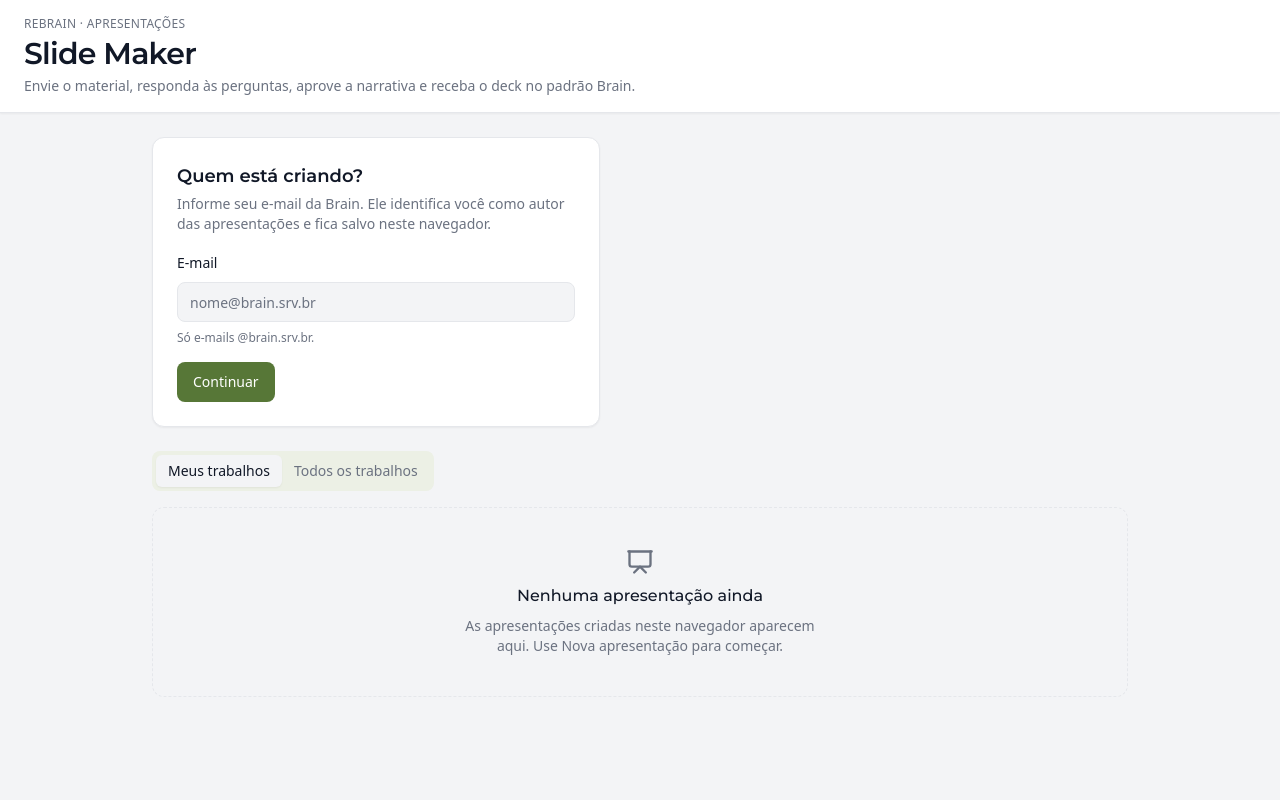
Test: SlideMakerPage › pede o e-mail @brain.srv.br antes de criar, guarda no navegador e permite trocar
Check: the heading "Nenhuma apresentação ainda" is shown, box [517,584,763,608]
In the field labelled "E-mail": (376,302) [177,282,575,322], type "pessoa@gmail.com"
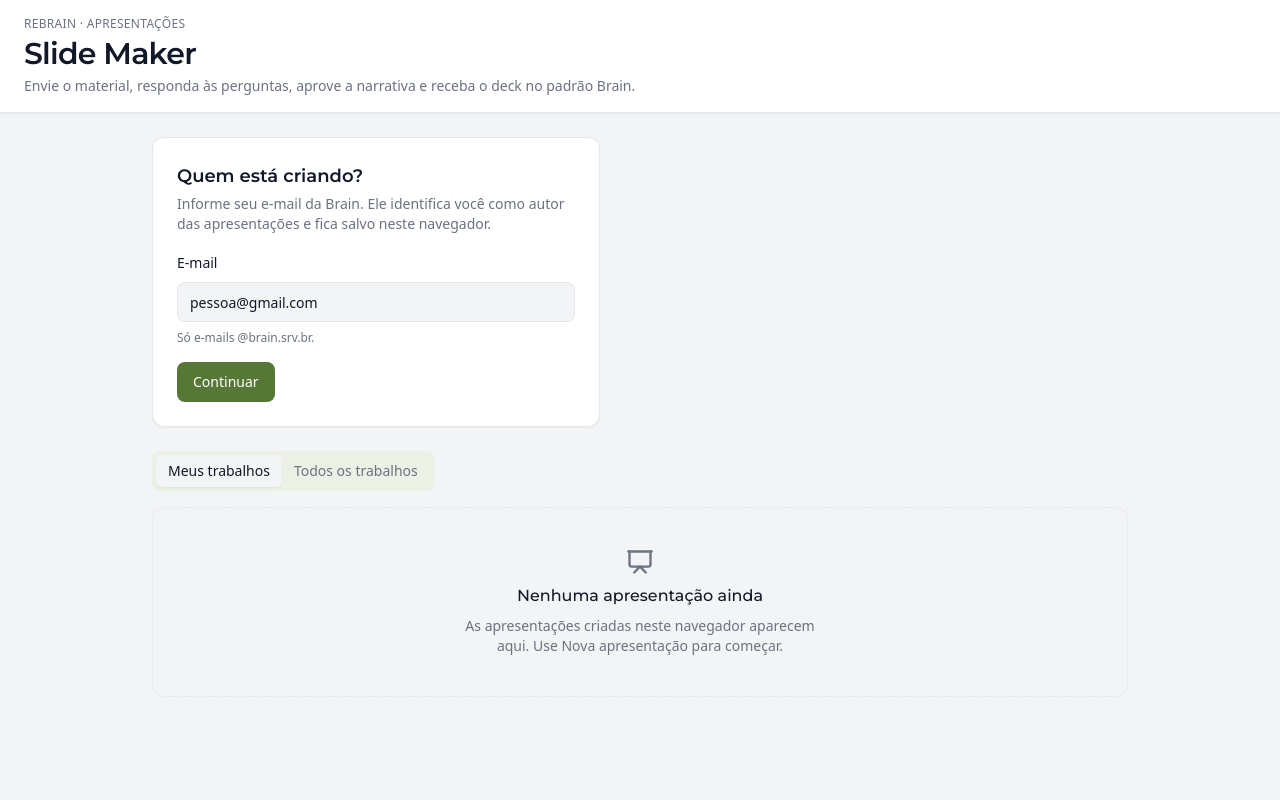
Click the button "Continuar": (226,382) [177,362,275,402]
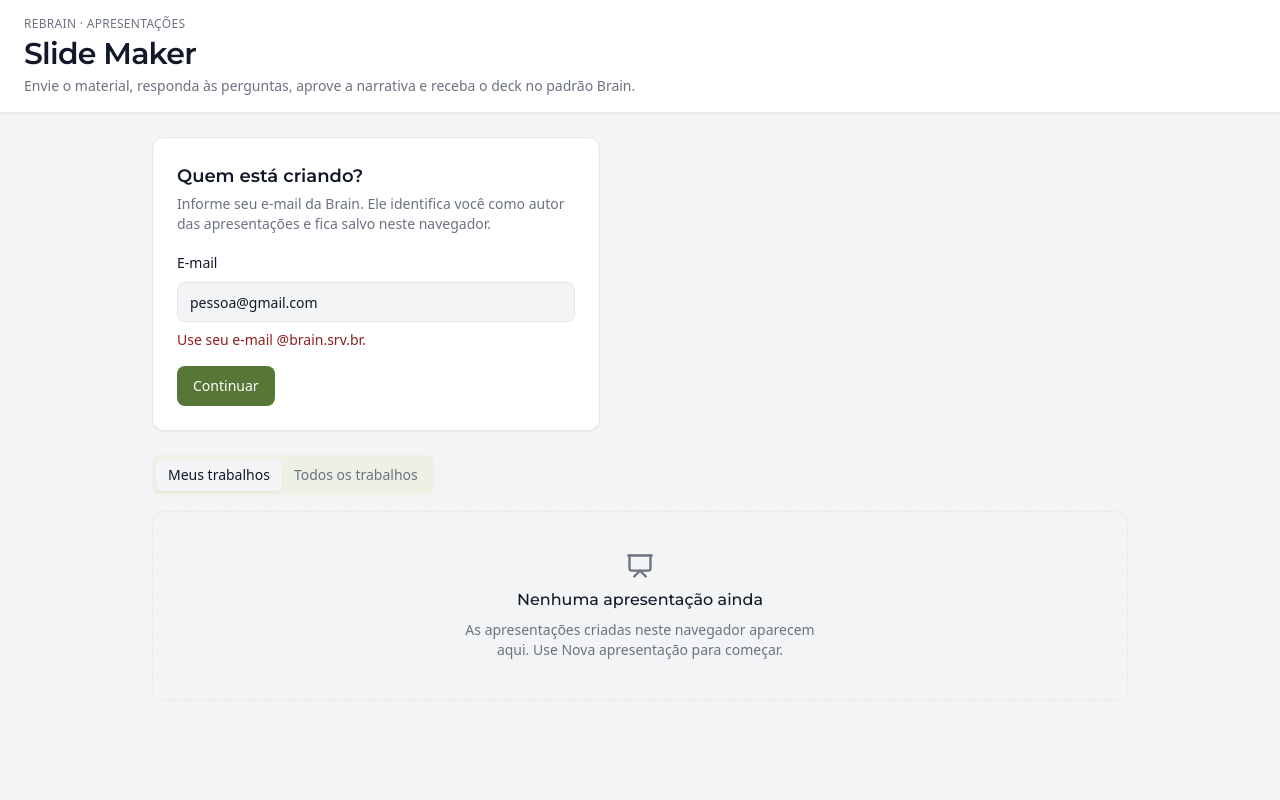
Check: the text "Use seu e-mail @brain.srv.br." is shown, box [177,330,366,349]
Replace the text in the field labelled "E-mail" with "Pessoa@Brain.srv.br": (376,302) [177,282,575,322]
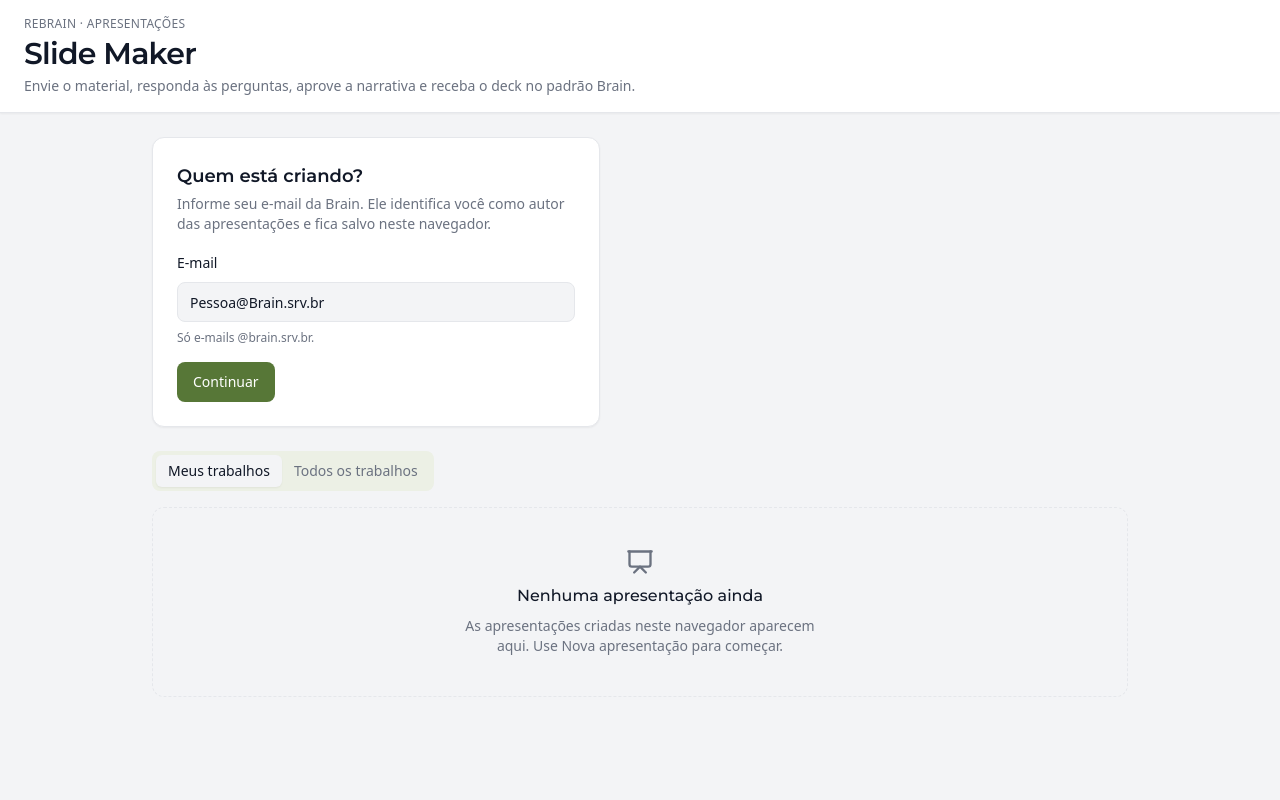
Click the button "Continuar": (226,382) [177,362,275,402]
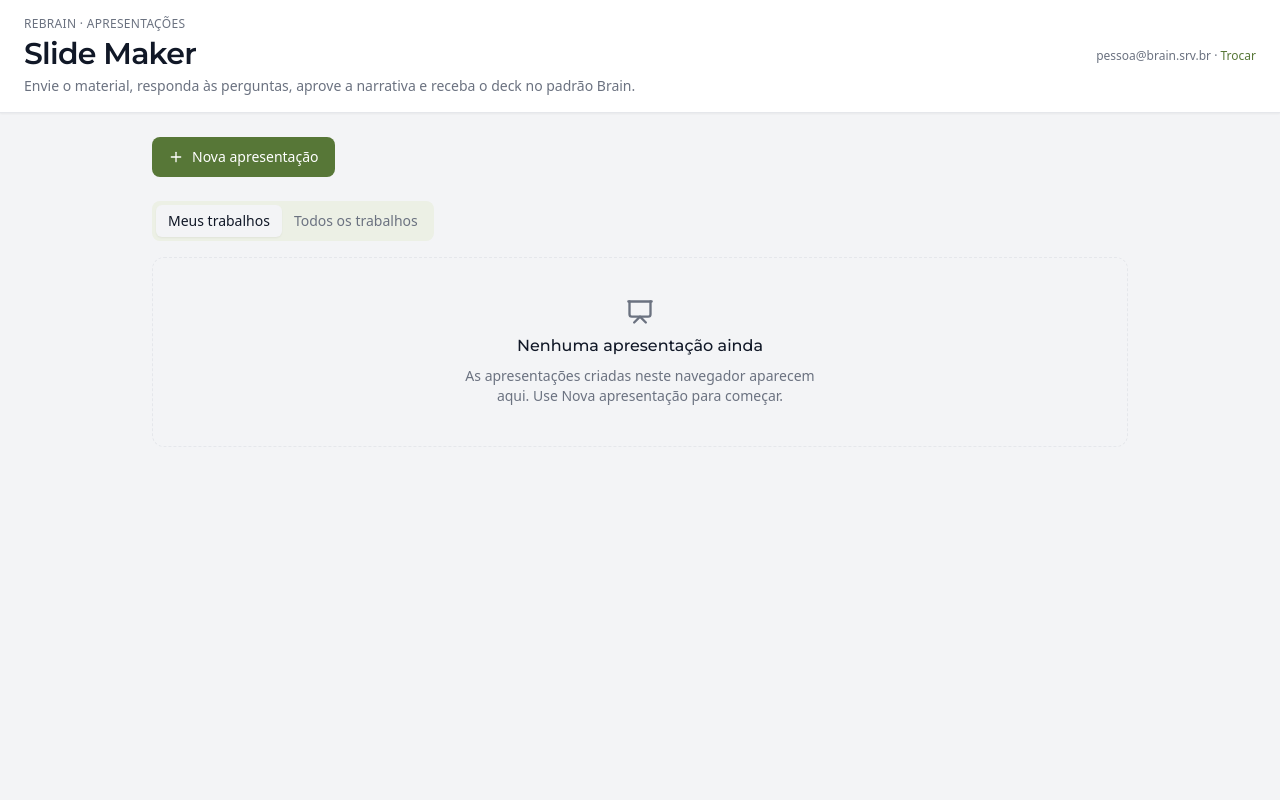
Check: the button "Nova apresentação" is shown, box [152,137,334,177]
Click the button "Trocar": (1238,56) [1220,48,1256,64]
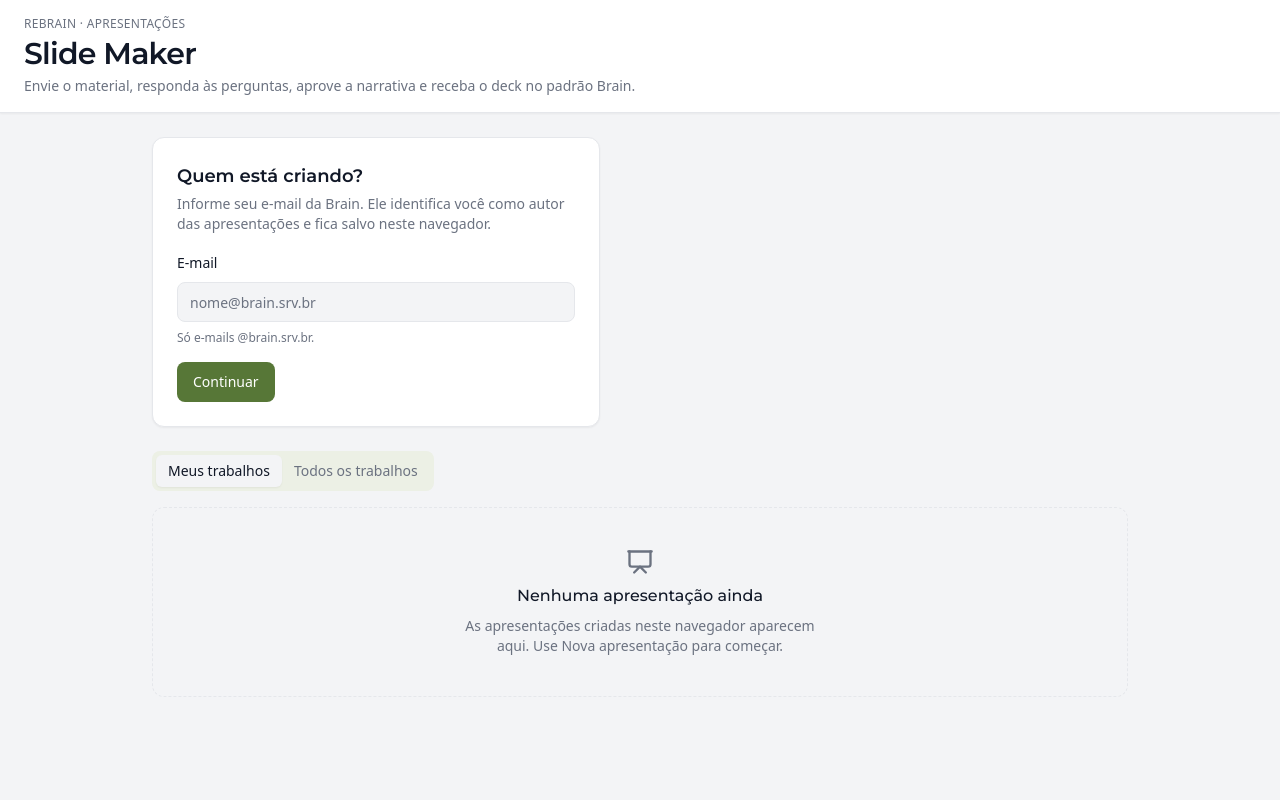
Check: the field labelled "E-mail" is shown, box [177,282,575,322]
